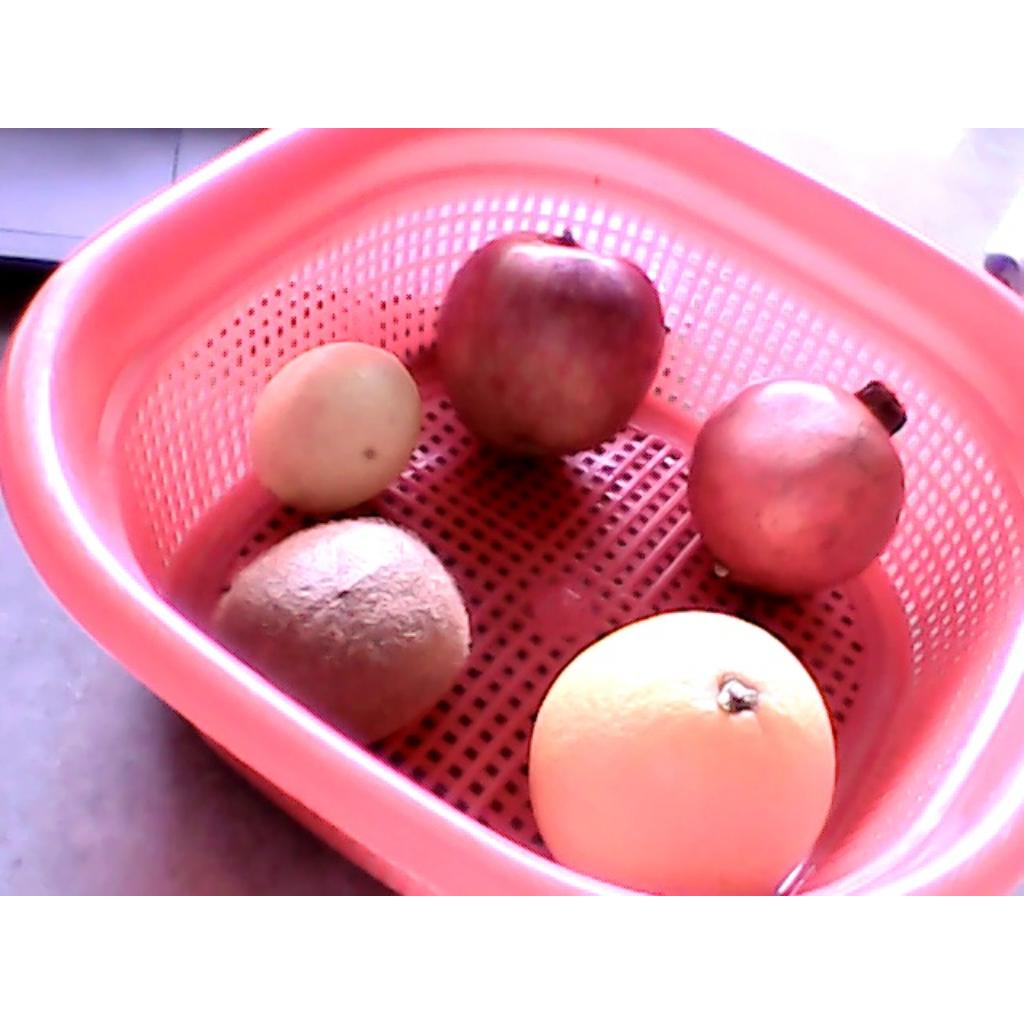apple: (436, 229, 668, 458)
kiwi: (207, 520, 473, 747)
lemon: (251, 343, 423, 514)
orange: (528, 609, 836, 894)
pomegranate: (687, 378, 911, 596)
